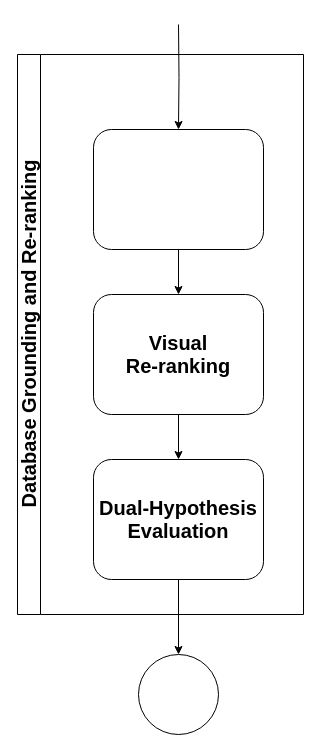
Image size: 321x752. Some labels were removed from this diagram. The box of each missing label's shape, as (x1, y1, x2, y2) in pixels:
Broad Candidate Retrieval and Structural Weighting: (92, 128, 264, 250)
End: (138, 654, 218, 734)
